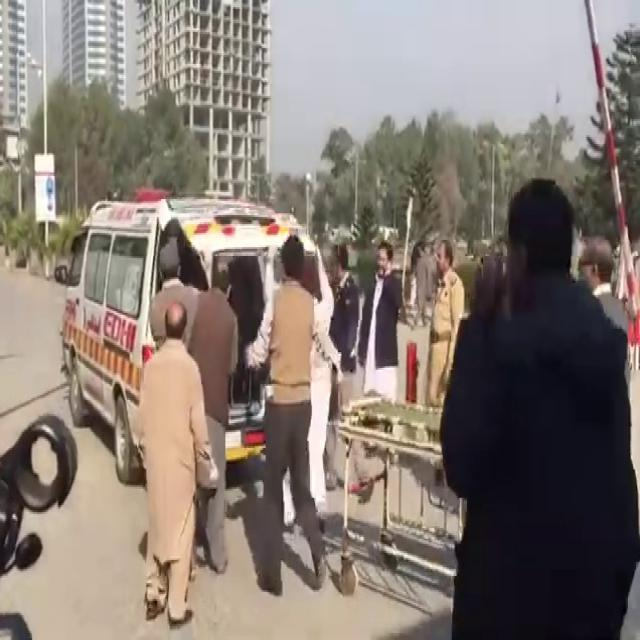ambulance: (63, 200, 294, 455)
